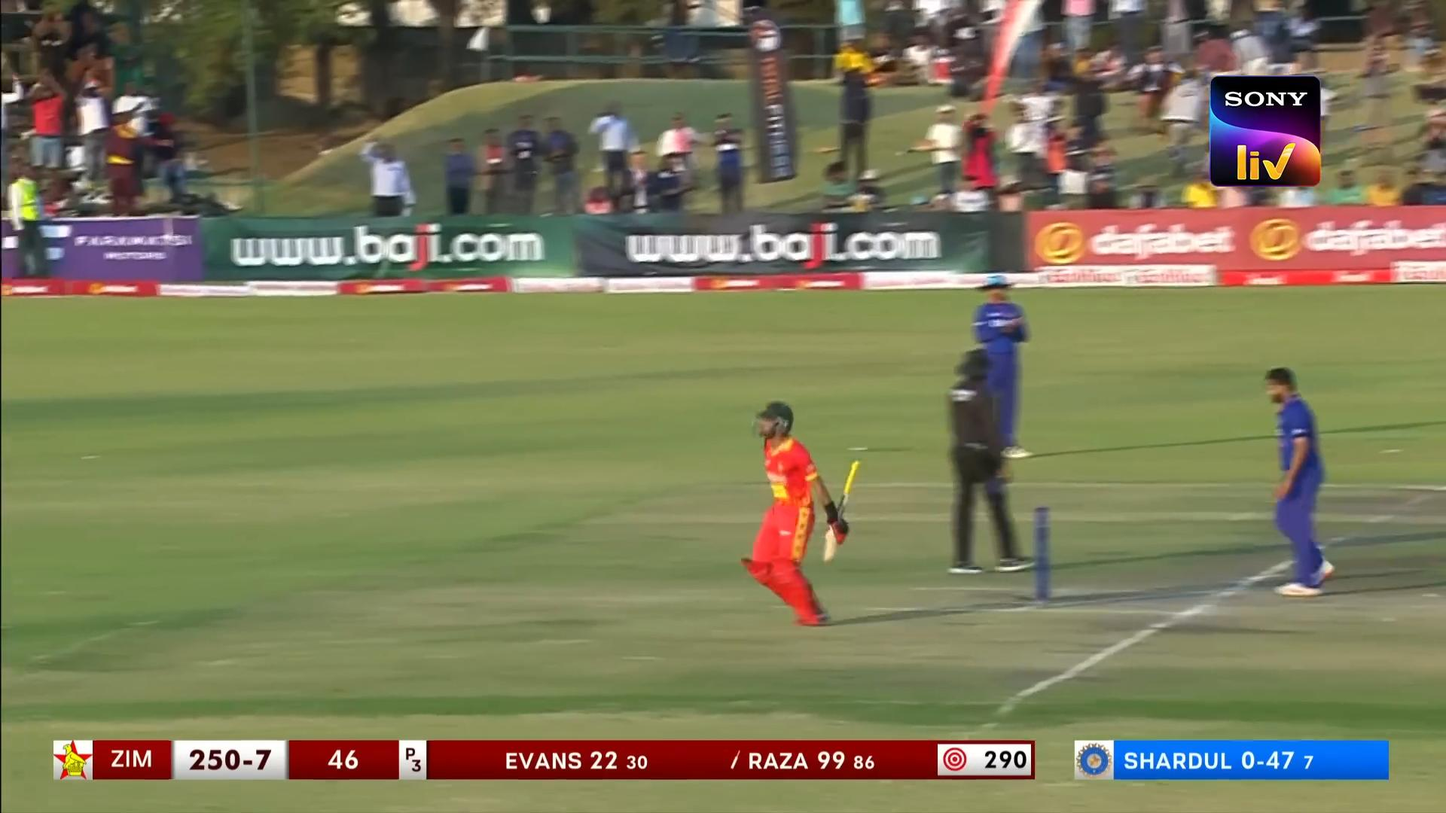batsman: (742, 401, 860, 627)
